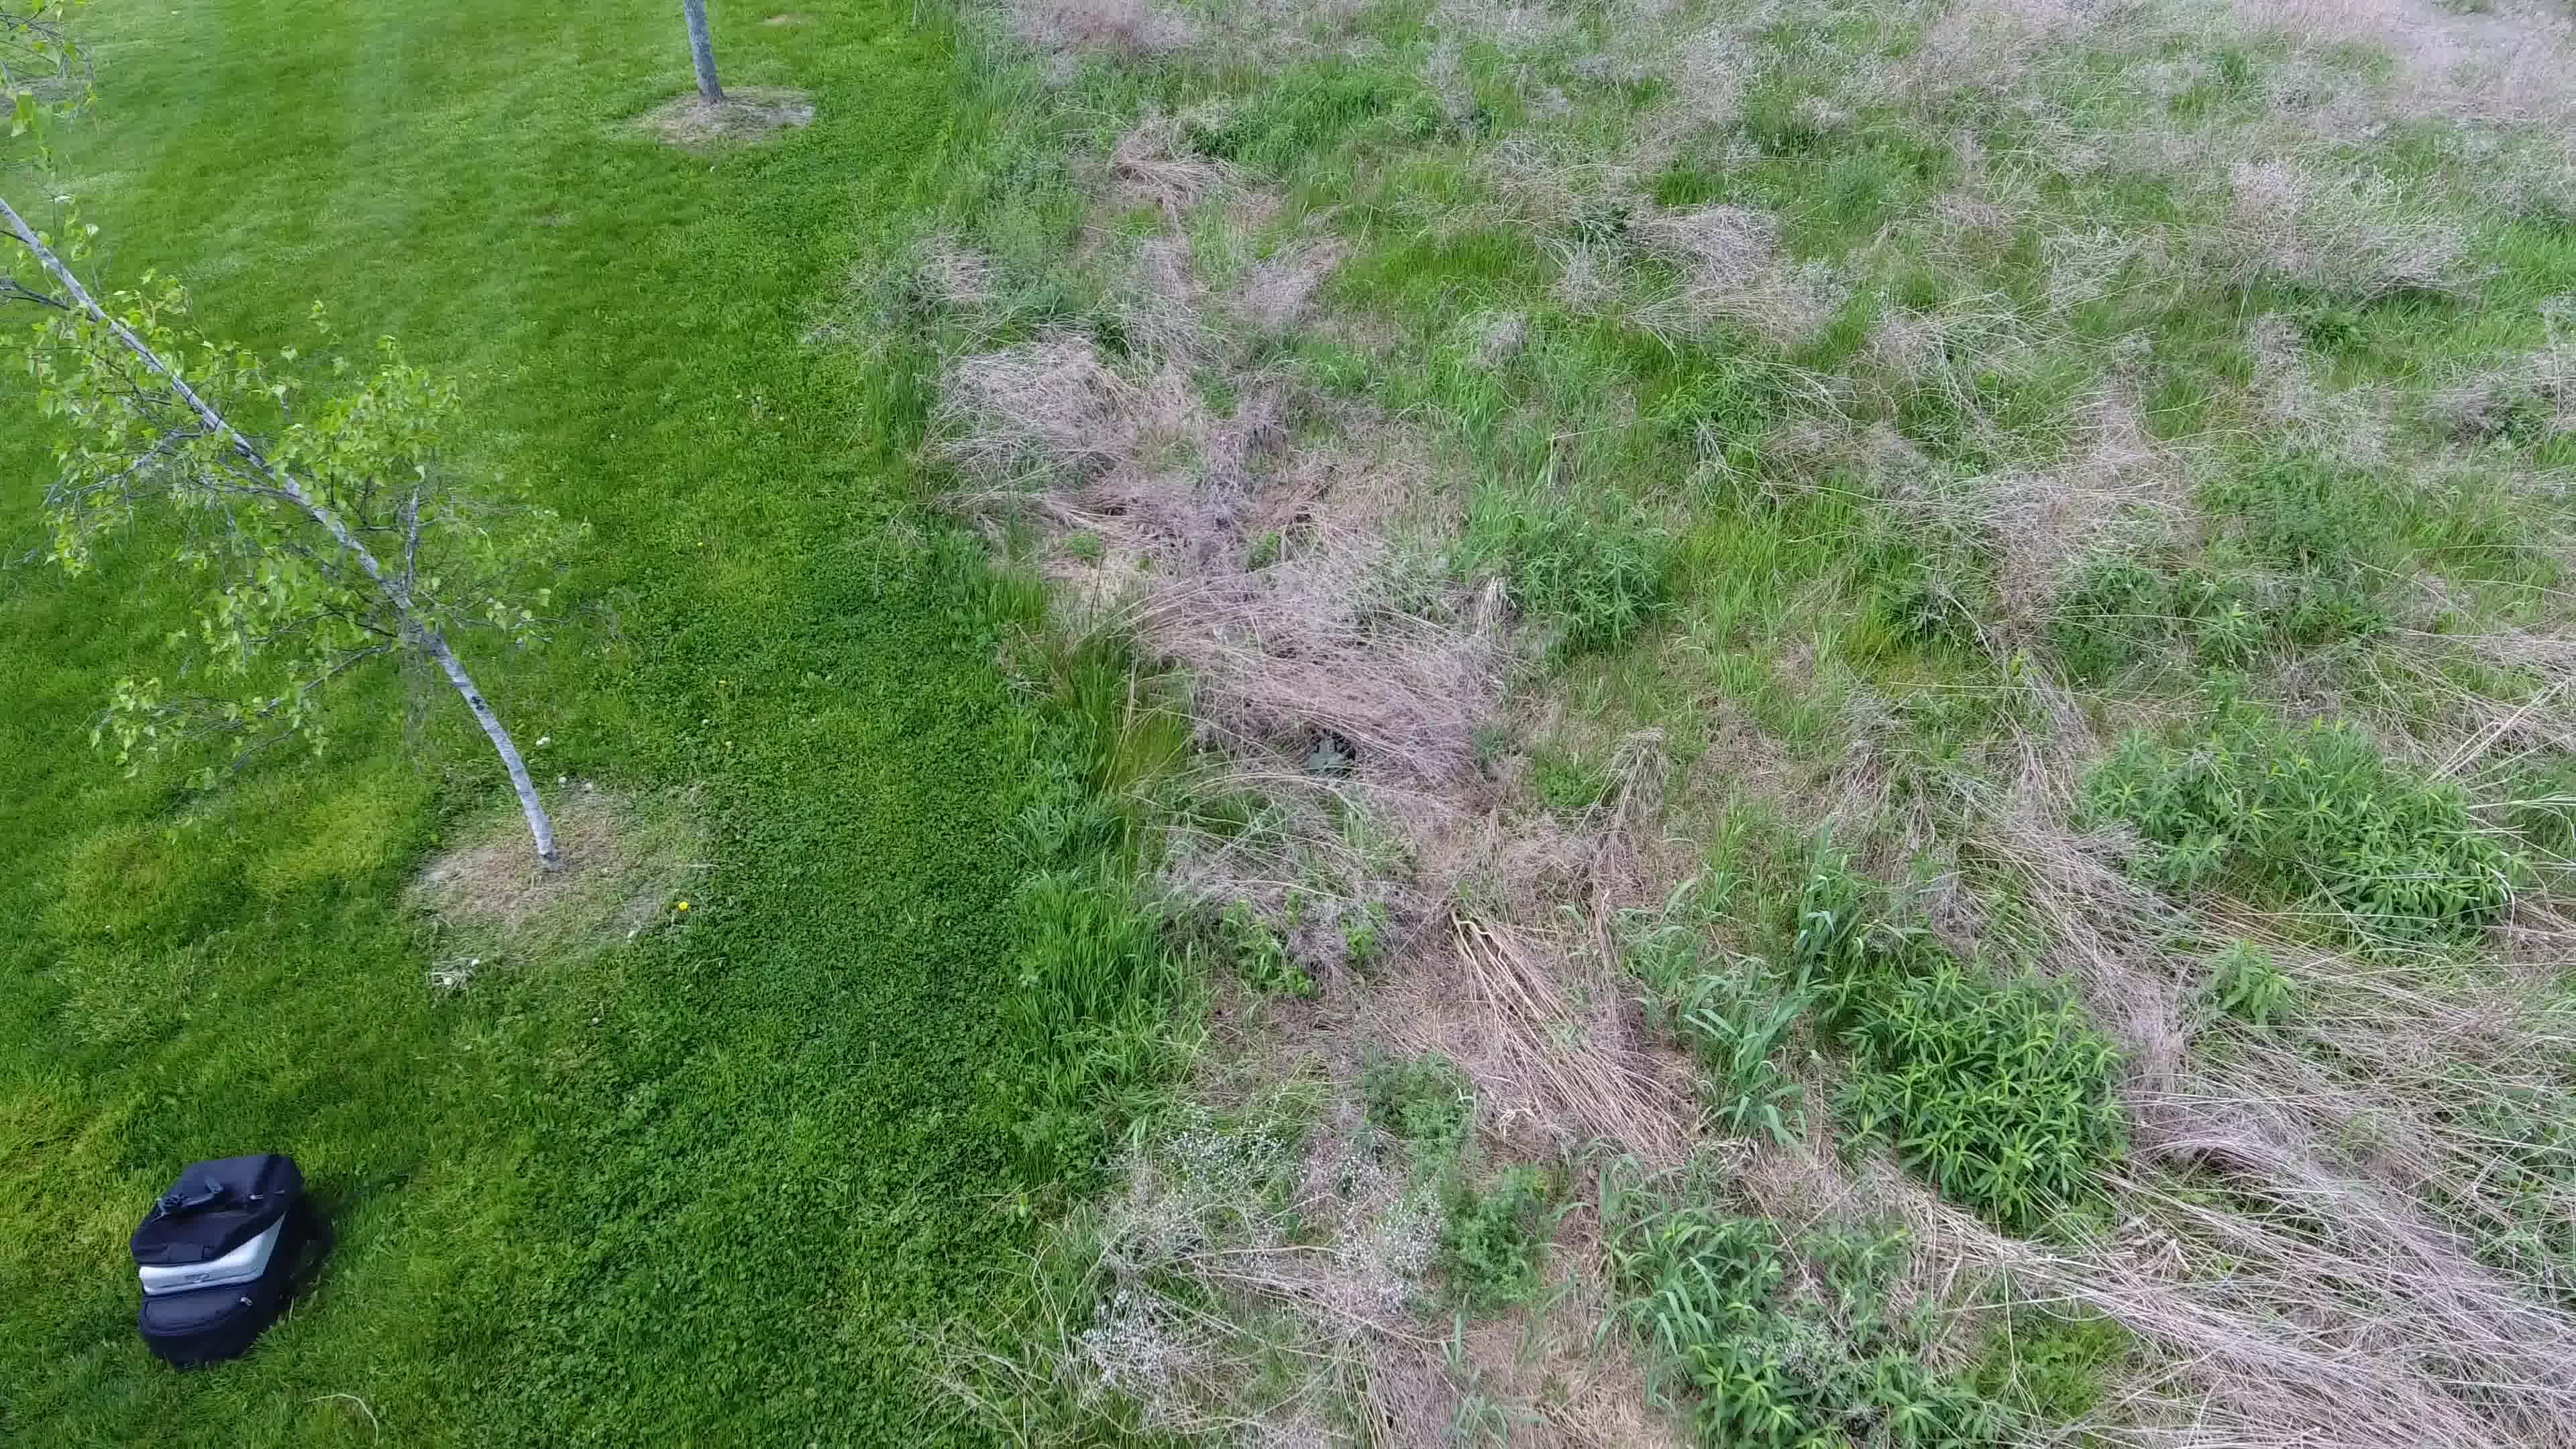transporter9: (1304, 732, 1355, 777)
